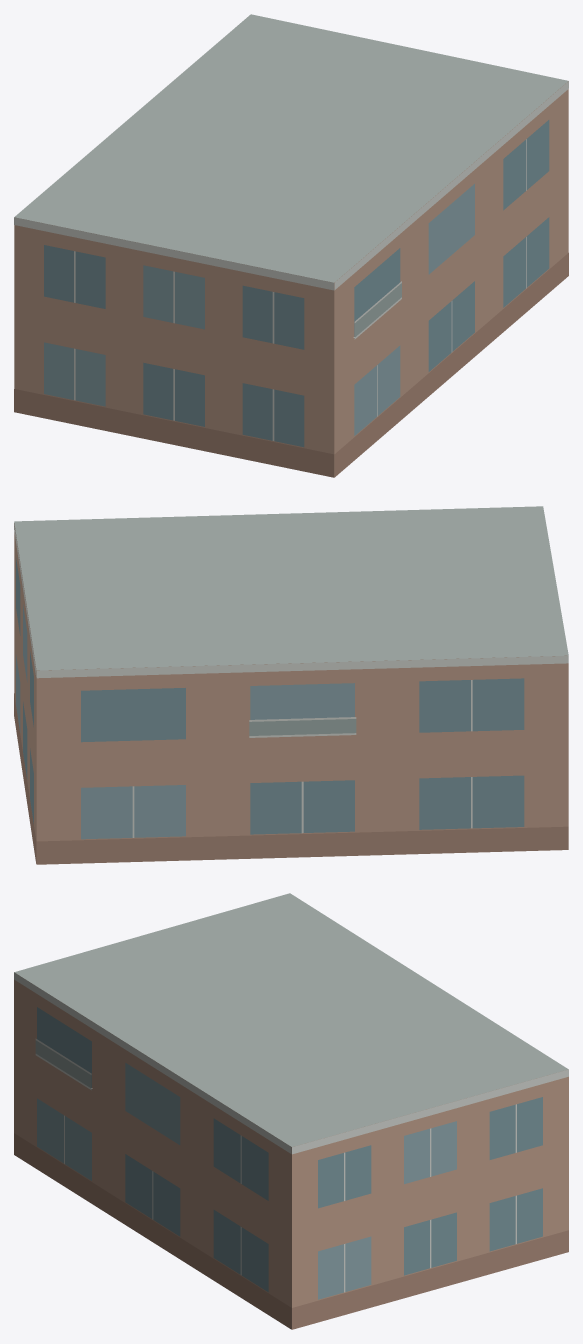
The model's file is survey-upis-32887570.glb.
3 renders of one model, top to bottom at view 1: azimuth 30°, elevation 25°; view 2: azimuth 150°, elevation 25°; view 3: azimuth 270°, elevation 25°, orthographic. The views are drawn at different scales.
Visible parts, largest first — view 1: survey-upis-32887570.tmp; view 2: survey-upis-32887570.tmp; view 3: survey-upis-32887570.tmp.
Part boxes in pixels (x1,y1,x2,y2): survey-upis-32887570.tmp: (14,14,568,477); survey-upis-32887570.tmp: (14,506,568,864); survey-upis-32887570.tmp: (14,893,568,1329).
Bounding box in the file's own units: 18.21 × 6.1 × 16.8.
